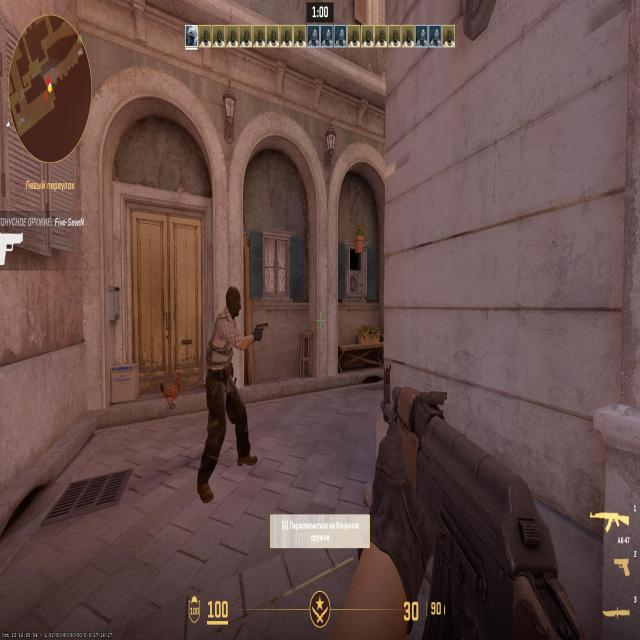T: (211, 295, 243, 468)
T_heat: (229, 293, 240, 315)
